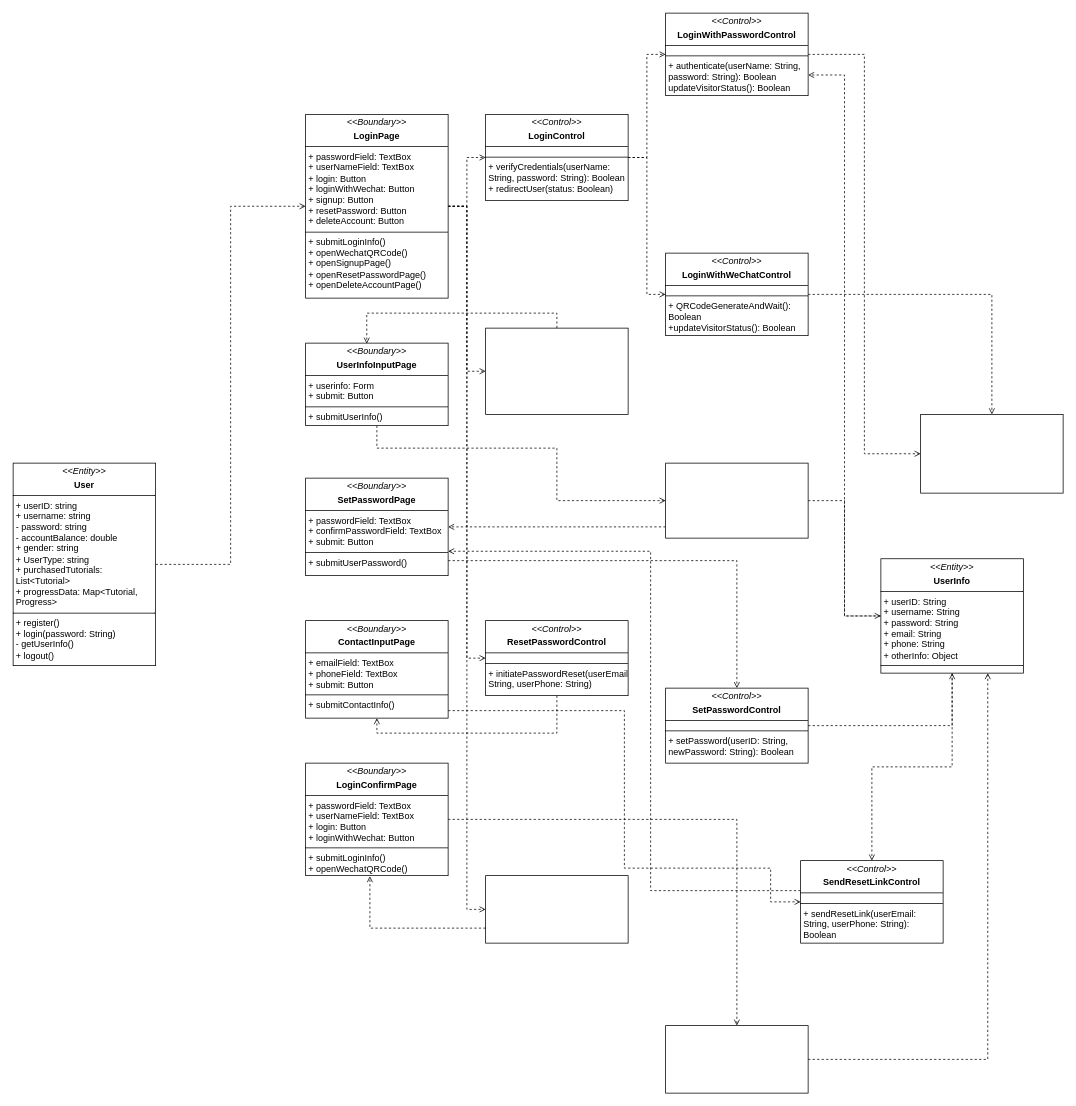
This 1076x1106 diagram has some shape labels left out. Here are the shapes that lost their labels. From the top down, the centre of each, then its label:
the point at 556,370: << Control >> RegisterControl + openUserInfoInputPage(userName: String): Boolean
the point at 991,453: << Entity >> VisitorStatus + currentStatus: String + currentID: String
the point at 736,500: << Control >> SetUserInfoControl + createSet UserInfo(userInfo: UserInfo)
the point at 556,909: << Control >> DeleteAccountControl + openConfirmLoginPage()
the point at 736,1059: << Control >> DeleteAccountConfirmControl + deleteAccount()
